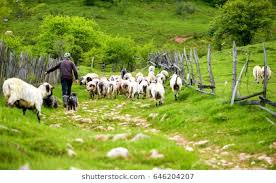sheep: (2, 79, 54, 122), (150, 76, 166, 105), (168, 72, 183, 99), (136, 77, 150, 98), (80, 70, 98, 86), (251, 64, 263, 84), (87, 80, 97, 99), (68, 92, 79, 109)
